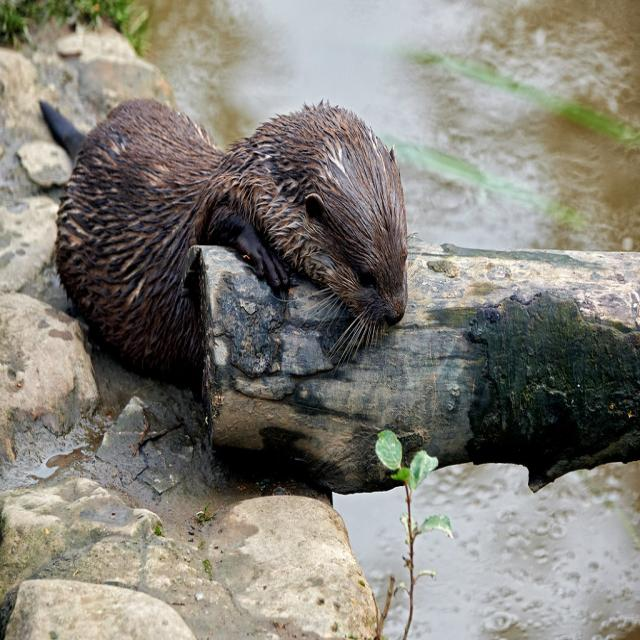otter: (62, 100, 408, 334)
